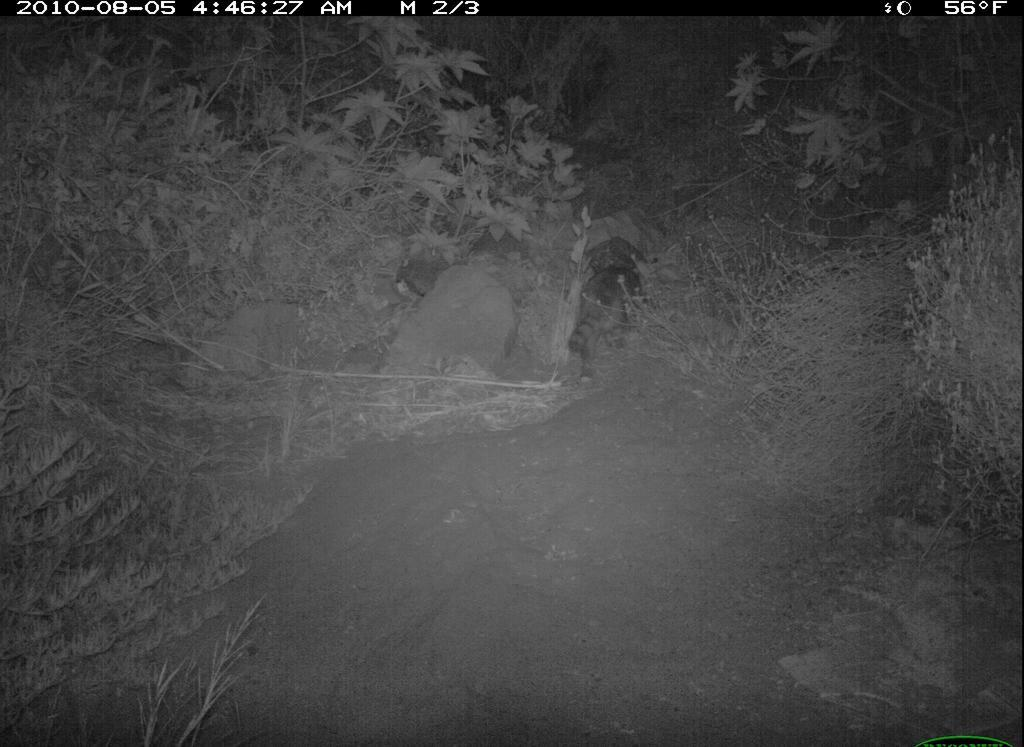raccoon: (565, 235, 674, 388)
